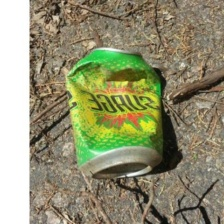can: (61, 44, 171, 183)
